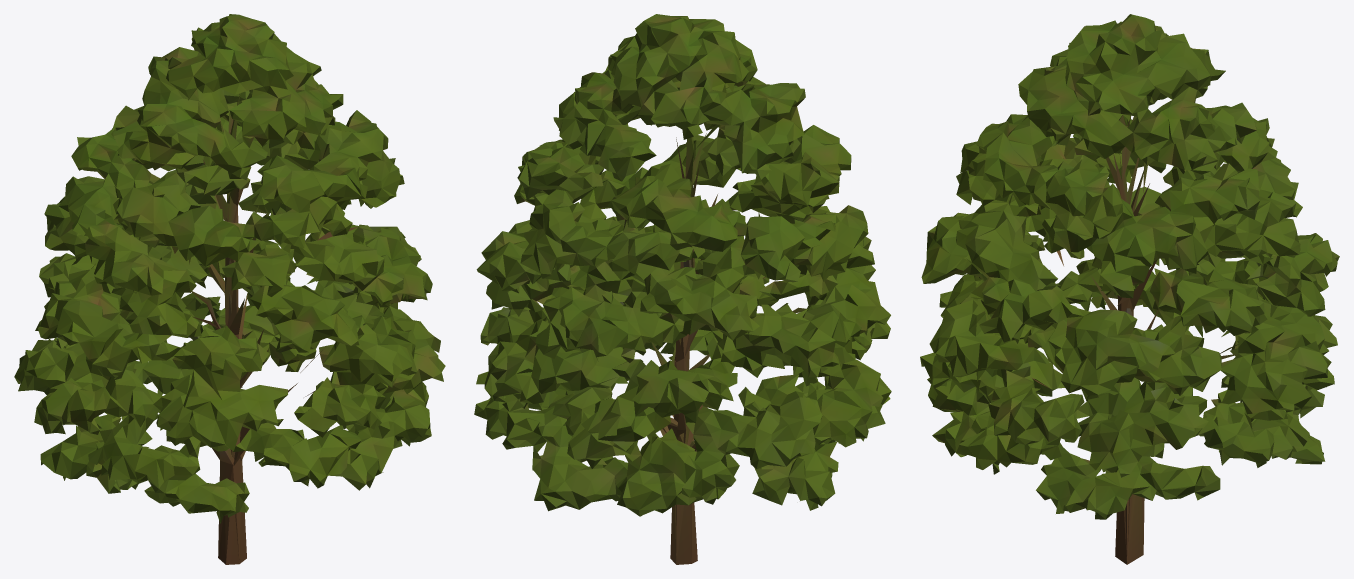
The model's file is lib_tp_degai.vc.glb.
The picture shows the model from 3 angles, left to right: view 1: azimuth 30°, elevation 25°; view 2: azimuth 150°, elevation 25°; view 3: azimuth 270°, elevation 25°; orthographic projection.
Visible parts, largest first — view 1: lib_tp_degai; view 2: lib_tp_degai; view 3: lib_tp_degai.
Part boxes in pixels (x1,y1,x2,y2): lib_tp_degai: [14, 14, 445, 564]; lib_tp_degai: [474, 14, 891, 564]; lib_tp_degai: [920, 14, 1339, 564].
Bounding box in the file's own units: 1.45 × 2 × 1.4.
